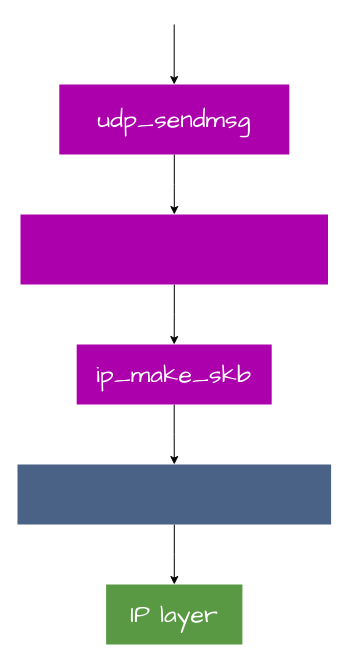
Image size: 348x662. Some labels were removed from this diagram. Here are the shapes that lost their labels. From the top down, the box of each, then its label:
(20, 214, 328, 284): ip_route_output_flow
(17, 464, 331, 524): udp_send_skb(skb, fl4)
